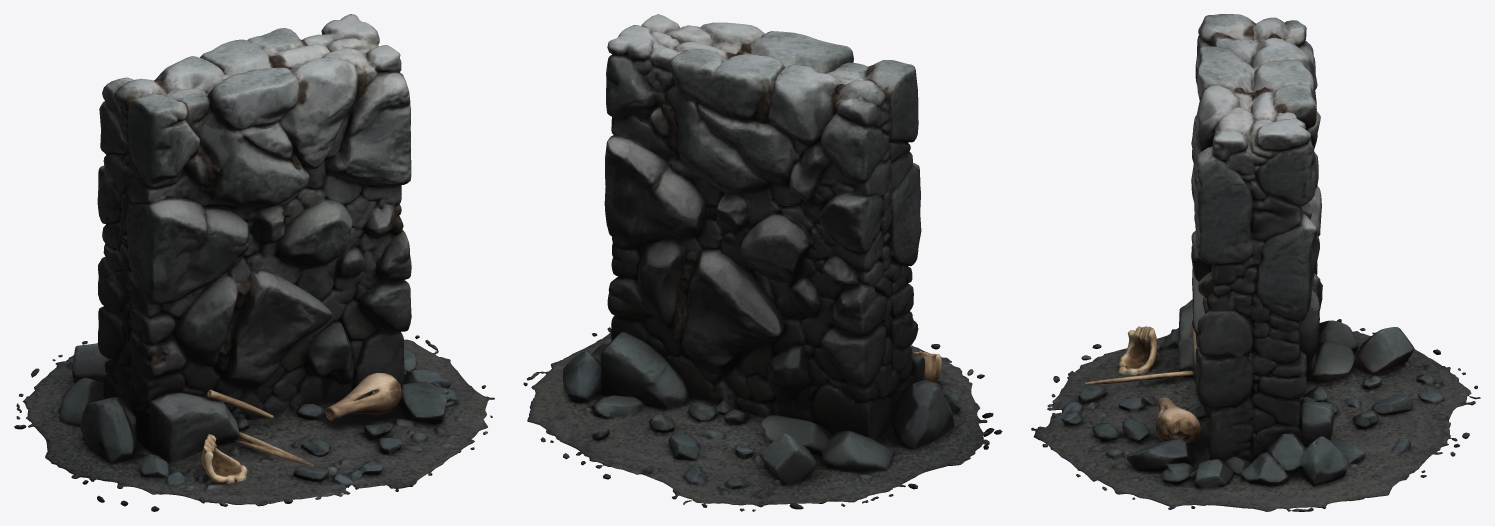
Rendered from dungeon-cave-wall-v1.glb.
3 views of the same model, side by side, from view 1: azimuth 30°, elevation 25°; view 2: azimuth 150°, elevation 25°; view 3: azimuth 270°, elevation 25° (orthographic). The views are drawn at different scales.
Visible parts, largest first — view 1: world; view 2: world; view 3: world.
Part boxes in pixels (x1,y1,x2,y2): world: (14, 14, 494, 511); world: (523, 14, 1002, 511); world: (1031, 14, 1480, 511).
Size of the model in its own units: 0.9982 by 0.8661 by 0.9795.
1 material, 1 textured.
